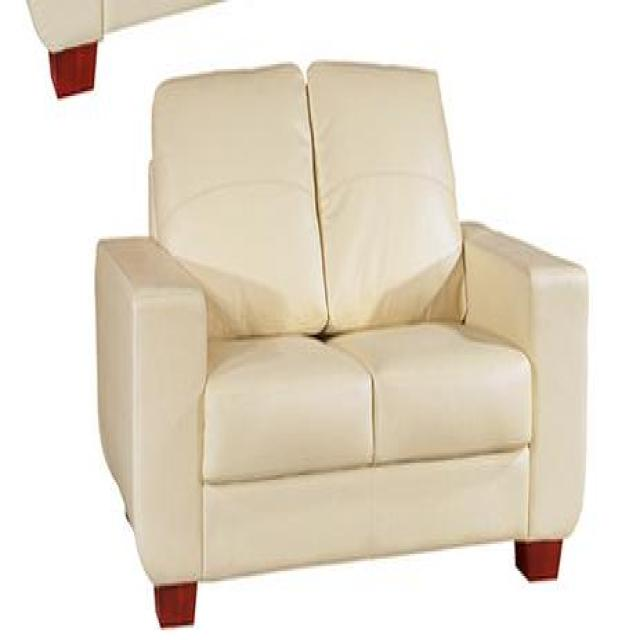sofa: (93, 52, 590, 632)
